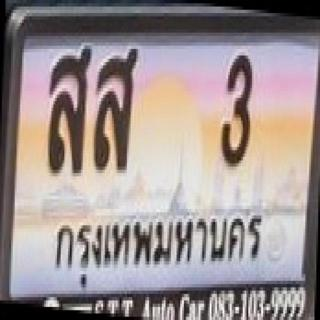A40: (40, 40, 94, 174), (94, 44, 146, 173)
N03: (219, 47, 257, 171)
P04: (46, 207, 267, 292)
